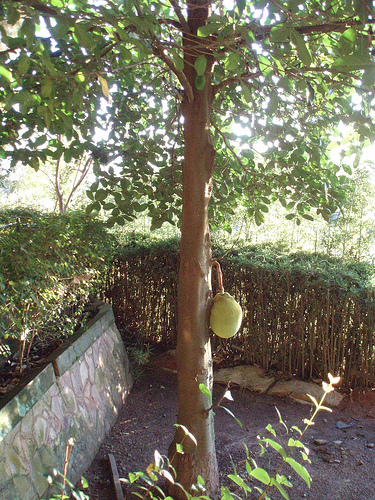jackfruit: (210, 262, 241, 341)
